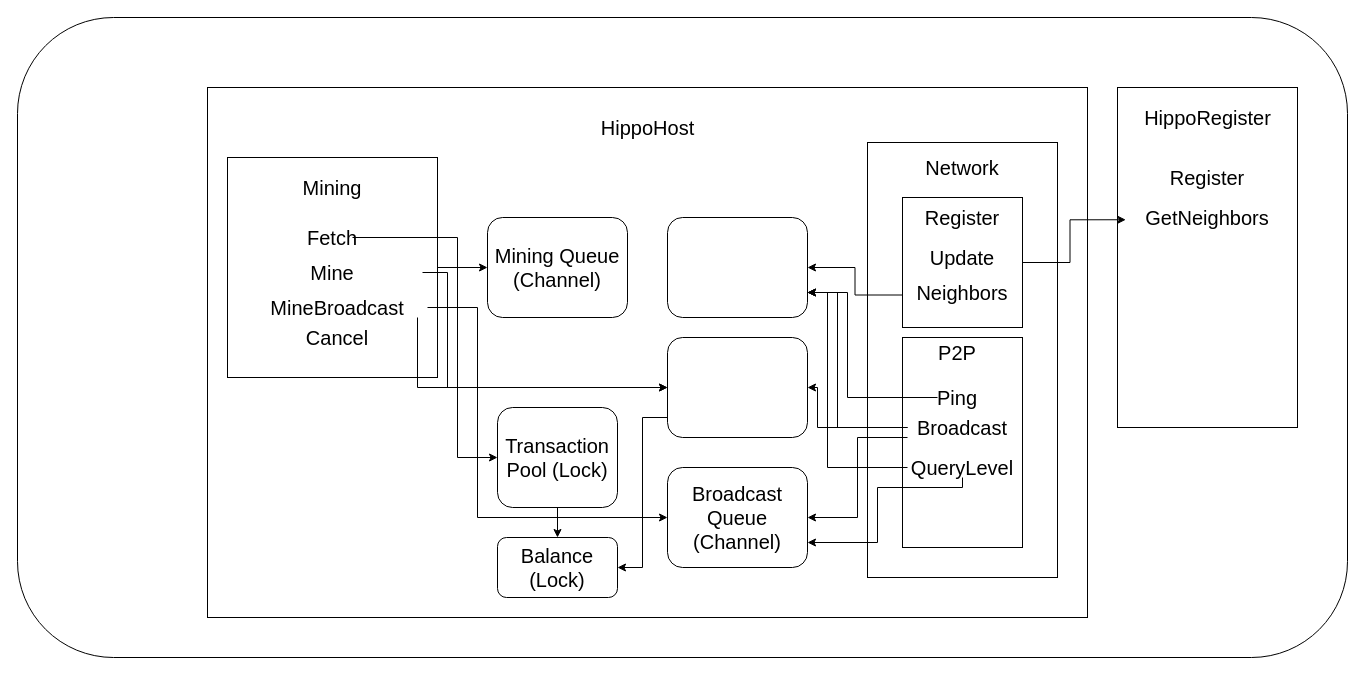
The diagram is 1365 pixels wide and 675 high, and some of its shapes have lost their labels. Here are the shapes that lost their labels. From the top down, the centre of each, then its label:
At [737,267]: "Neighbors' List (Lock)".
At [737,387]: "Block Storage (Lock)".
